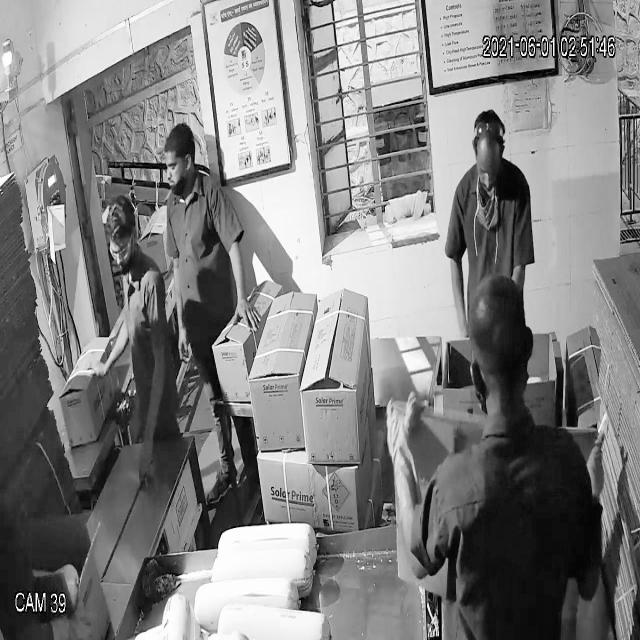glasses: (102, 235, 140, 270)
